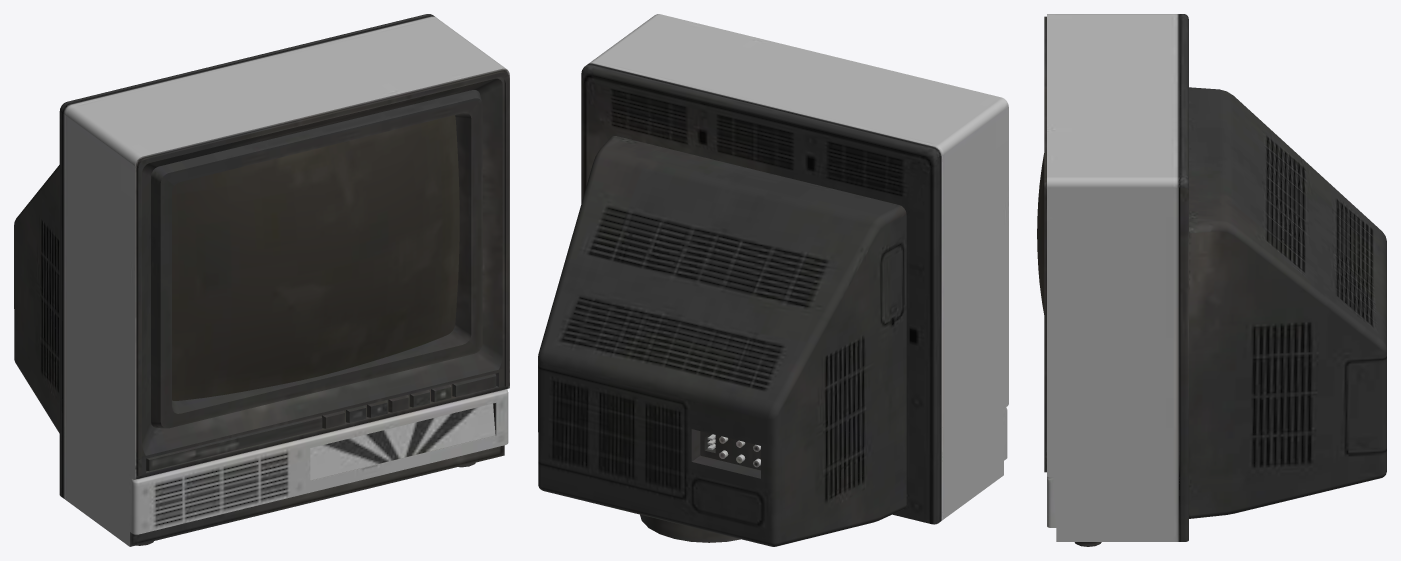
The model's file is television_02.glb.
The picture shows the model from 3 angles, left to right: view 1: azimuth 30°, elevation 25°; view 2: azimuth 150°, elevation 25°; view 3: azimuth 270°, elevation 25°; orthographic projection. The views are drawn at different scales.
Visible parts, largest first — view 1: television_02; view 2: television_02; view 3: television_02.
Boxes of the visible parts, left/top/right/bottom form: television_02: left=14, top=14, right=509, bottom=546; television_02: left=538, top=14, right=1008, bottom=546; television_02: left=1037, top=14, right=1386, bottom=546.
Bounding box in the file's own units: 0.3998 × 0.4114 × 0.3502.
1 material, 1 textured.
